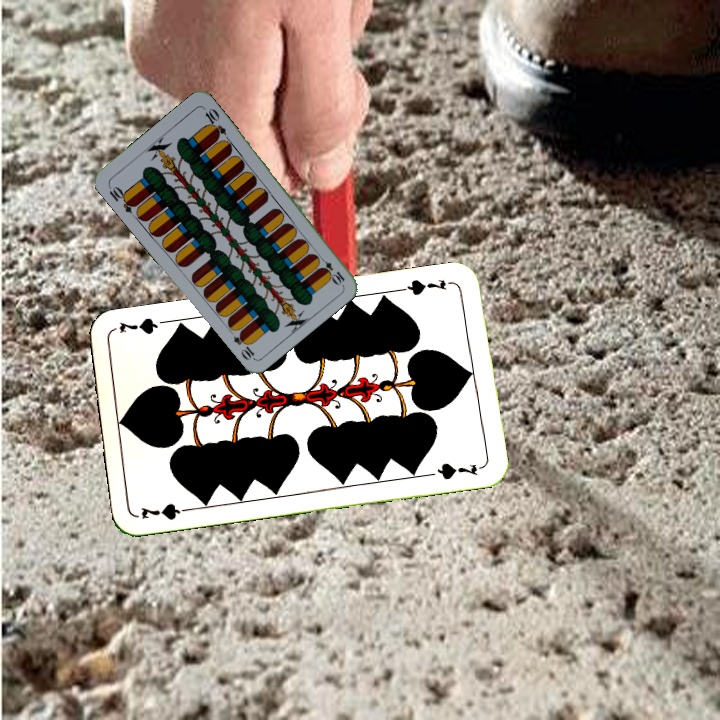E10: (104, 181, 139, 216), (314, 252, 347, 287)
G7: (137, 499, 196, 522), (398, 275, 449, 298)
